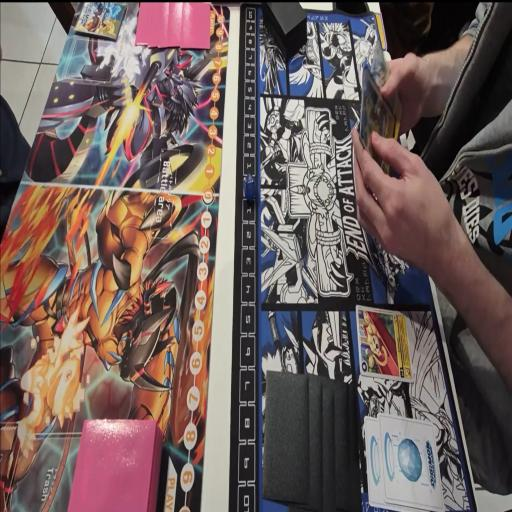card: (362, 64, 395, 181), (358, 310, 409, 380)
